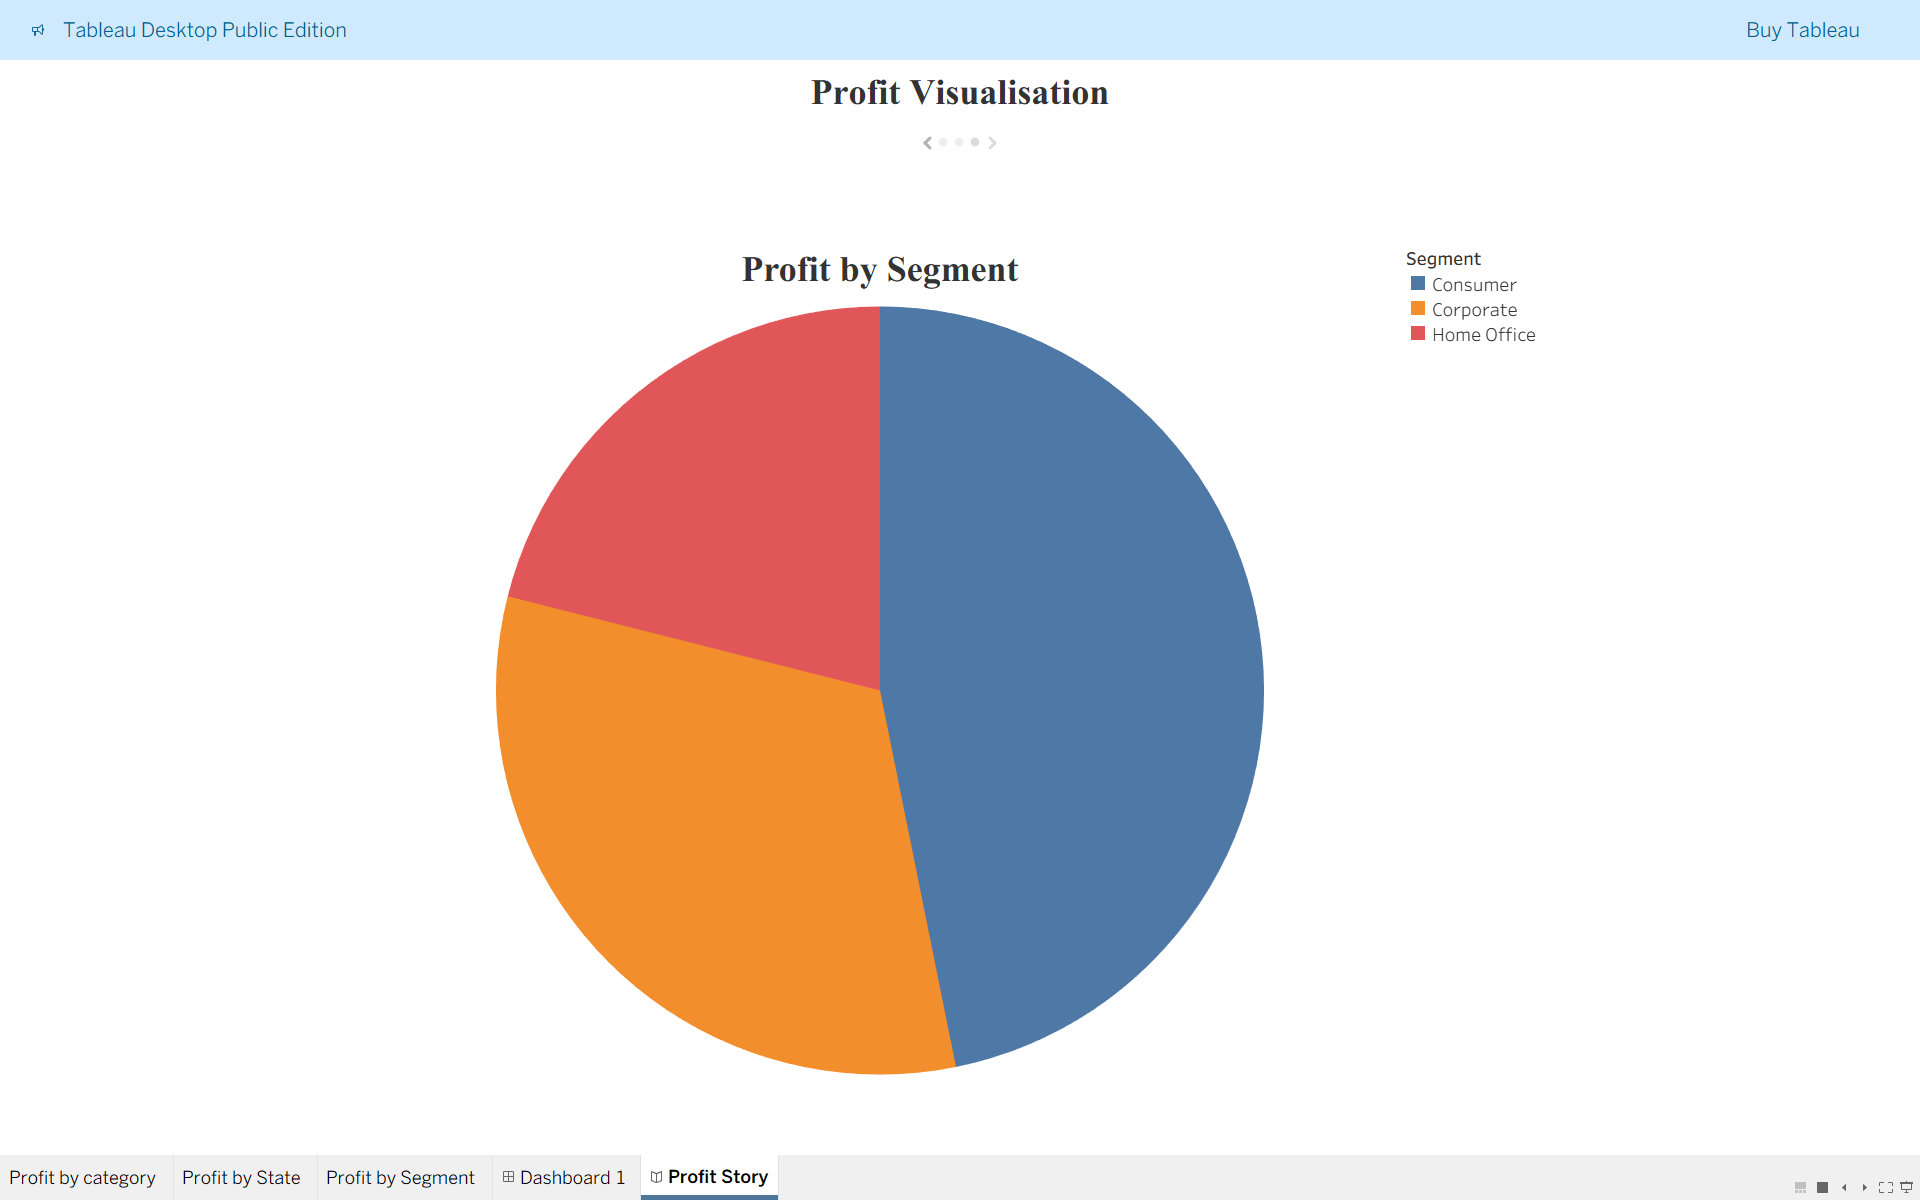

This screenshot's page, from the dashboard's own definition file:
{"tool":"tableau","page":{"name":"Dashboard 1","canvas":[1000,1000],"units":"permille","ordinal":0},"visuals":[{"type":"worksheet","title":"Profit by Segment","mark":"Pie","box":[6.6,9.3,855.7,981.4]},{"type":"legend","title":"Profit by Segment","param":"[federated.1vx9r2c0tfk0tr1181aof1274ff9].[none:Segment:nk]","box":[862.3,9.3,131.2,126.7]}]}

Visuals, with their boxes on the dashboard's canvas, which has no fixed pixel size, in thousandths of its width and height (x1, y1, x2, y2). These are canvas units, not pixel positions in the 1920x1200 screenshot, which may show the page scaled, cropped or inside an application window:
"Profit by Segment" worksheet (Pie marks): rect(7, 9, 862, 991)
"Profit by Segment" legend: rect(862, 9, 994, 136)
